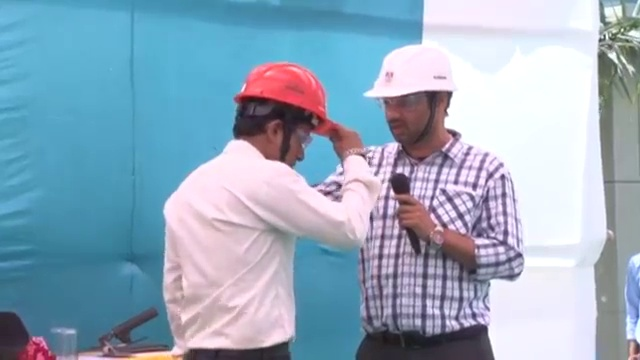helmet: (234, 58, 341, 134), (361, 43, 459, 100)
helmet_on: (234, 57, 341, 172), (359, 42, 459, 146)
person: (159, 59, 371, 360), (349, 43, 526, 360)
